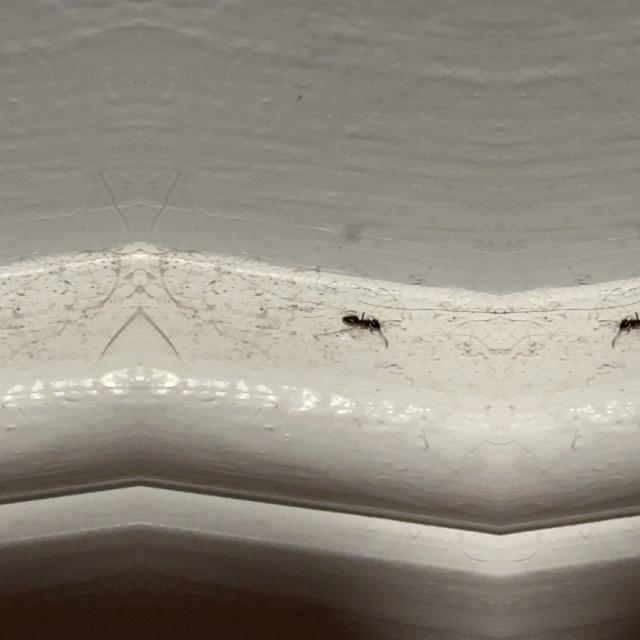Tapinoma: (337, 298, 388, 346), (612, 298, 640, 346)
